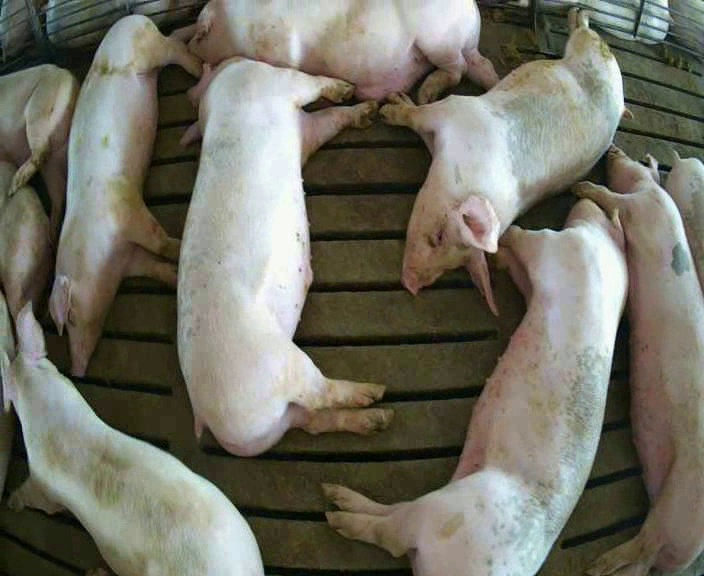pig: (325, 200, 626, 573), (178, 58, 392, 455), (380, 10, 631, 312), (0, 305, 262, 573), (576, 144, 703, 573), (49, 16, 200, 375), (189, 2, 497, 103), (665, 150, 703, 291)
